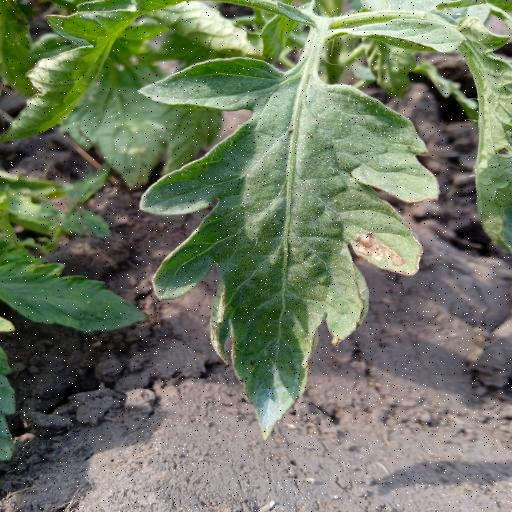Tomato_Mildiou: (129, 48, 443, 448)
